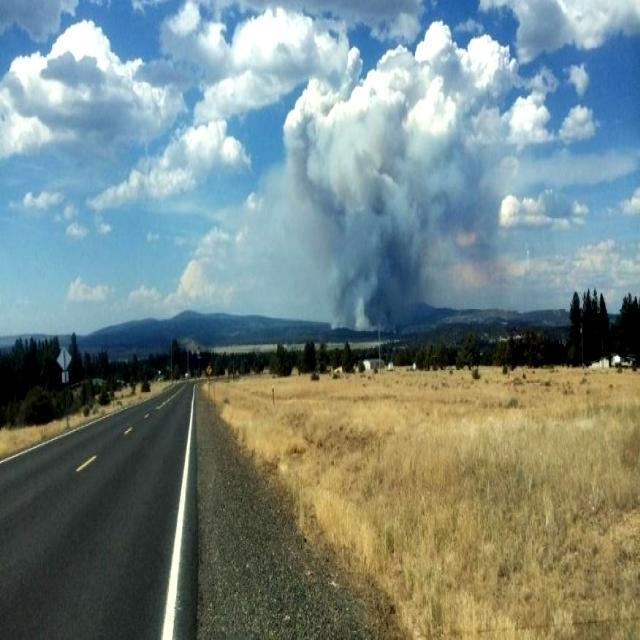Smoke: (320, 128, 445, 342)
